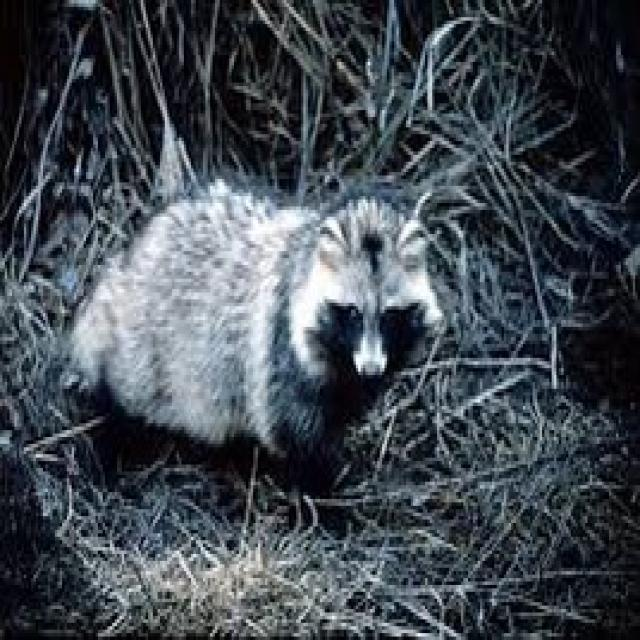racoon: (68, 178, 440, 498)
